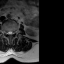CCS_normal: (9, 28, 11, 38)
LFS_normal: (13, 29, 15, 35)
LLS_normal: (11, 29, 13, 36)
RFS_normal: (5, 29, 7, 36)
RLS_normal: (7, 29, 9, 36)
